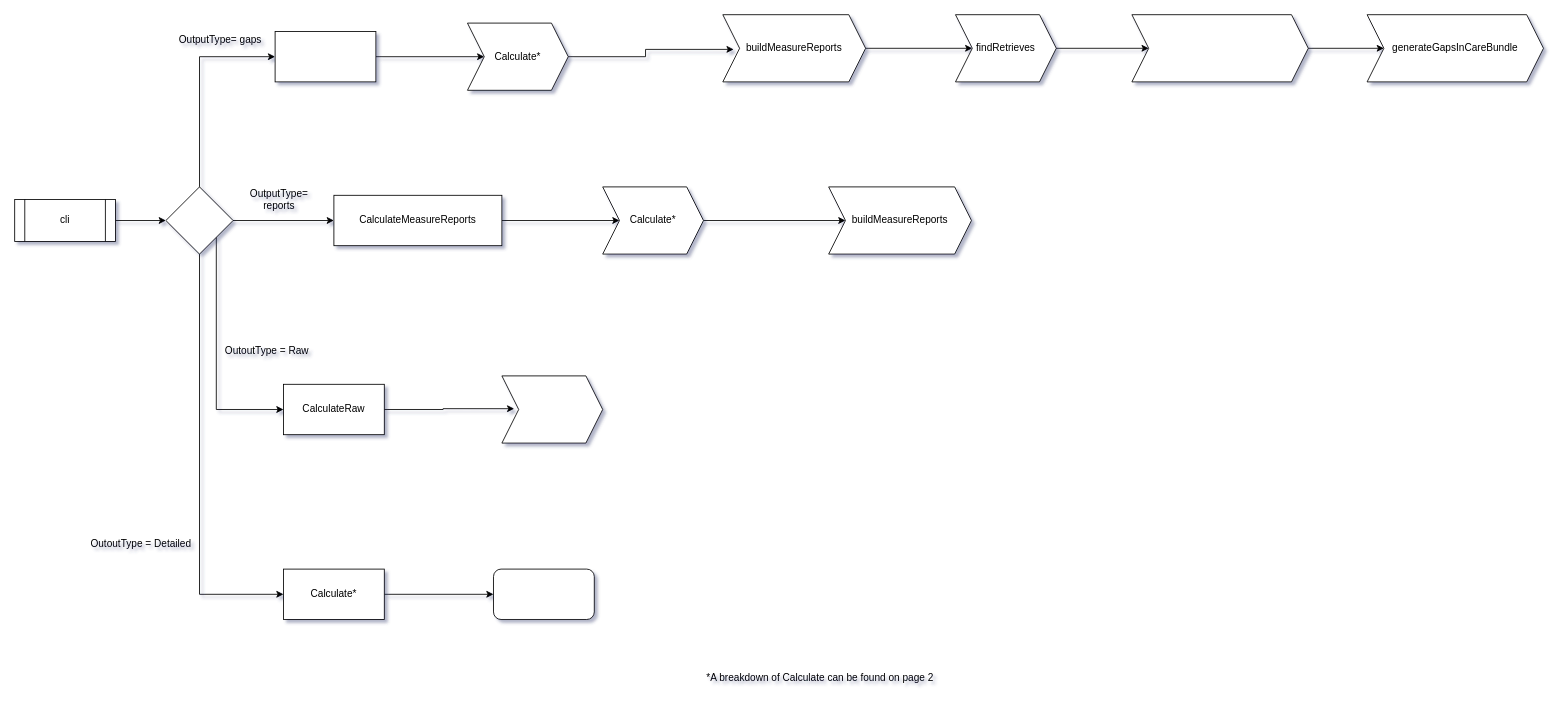
This 1563x706 diagram has some shape labels left out. Each missing label, with the centre of its shape:
CalculateGapsInCare: (x=325, y=56)
Execute(): (x=552, y=409)
Execution Results: (x=543, y=594)
generateDetectedIssueReports: (x=1219, y=48)
OutputType: (x=199, y=220)
